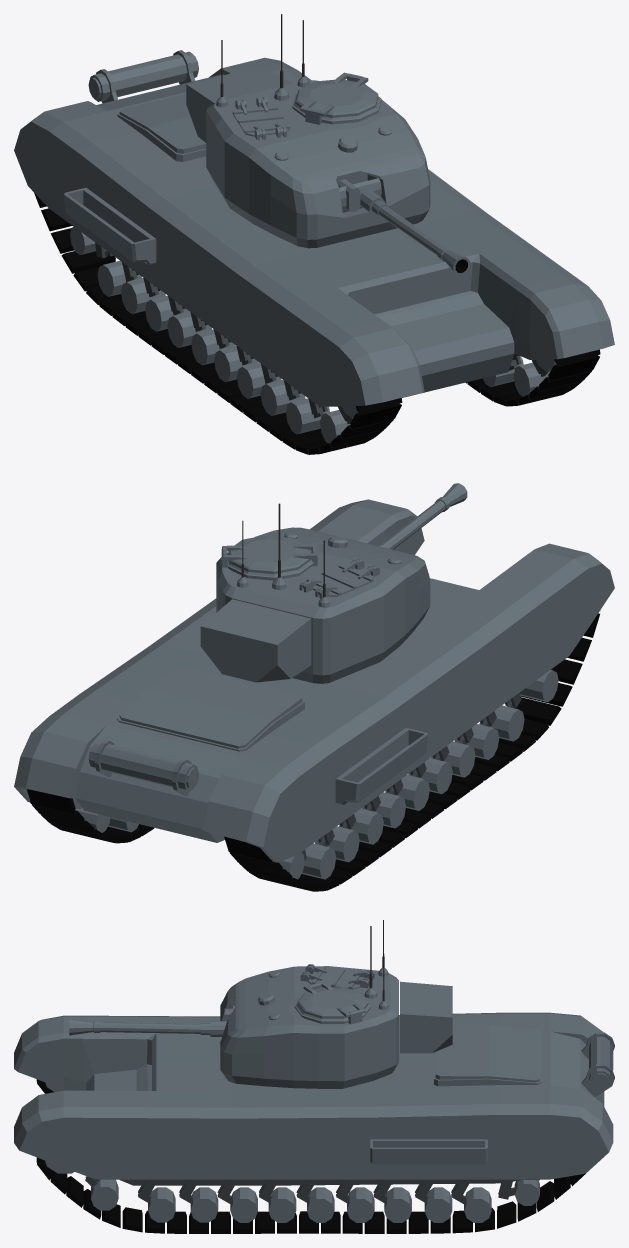
The picture shows the model from 3 angles, top to bottom: view 1: azimuth 30°, elevation 25°; view 2: azimuth 150°, elevation 25°; view 3: azimuth 270°, elevation 25°; orthographic projection. The views are drawn at different scales.
Parts seen in each view (by area): view 1: Plane.008, Plane.009, Cube.002, Cylinder.002, Plane.010, Plane.011; view 2: Plane.008, Plane.009, Cube.002, Plane.011, Cylinder.002, Plane.010; view 3: Plane.008, Cube.002, Plane.009, Cylinder.002, Plane.011, Plane.010.
Part boxes in pixels (<box>): Plane.008: <box>14,50,614,406</box>; Plane.009: <box>186,14,430,248</box>; Cube.002: <box>34,193,600,454</box>; Cylinder.002: <box>337,178,469,275</box>; Plane.010: <box>295,92,378,117</box>; Plane.011: <box>295,72,376,100</box>; Plane.008: <box>14,499,614,862</box>; Plane.009: <box>200,503,430,683</box>; Cube.002: <box>27,610,600,891</box>; Plane.011: <box>222,540,297,574</box>; Cylinder.002: <box>377,483,467,549</box>; Plane.010: <box>243,535,317,569</box>; Plane.008: <box>14,1012,614,1179</box>; Cube.002: <box>36,1079,585,1233</box>; Plane.009: <box>220,920,452,1088</box>; Cylinder.002: <box>69,1005,235,1036</box>; Plane.011: <box>322,987,368,1018</box>; Plane.010: <box>297,981,342,1018</box>.
Bounding box in the file's own units: 363 × 360 × 758.
